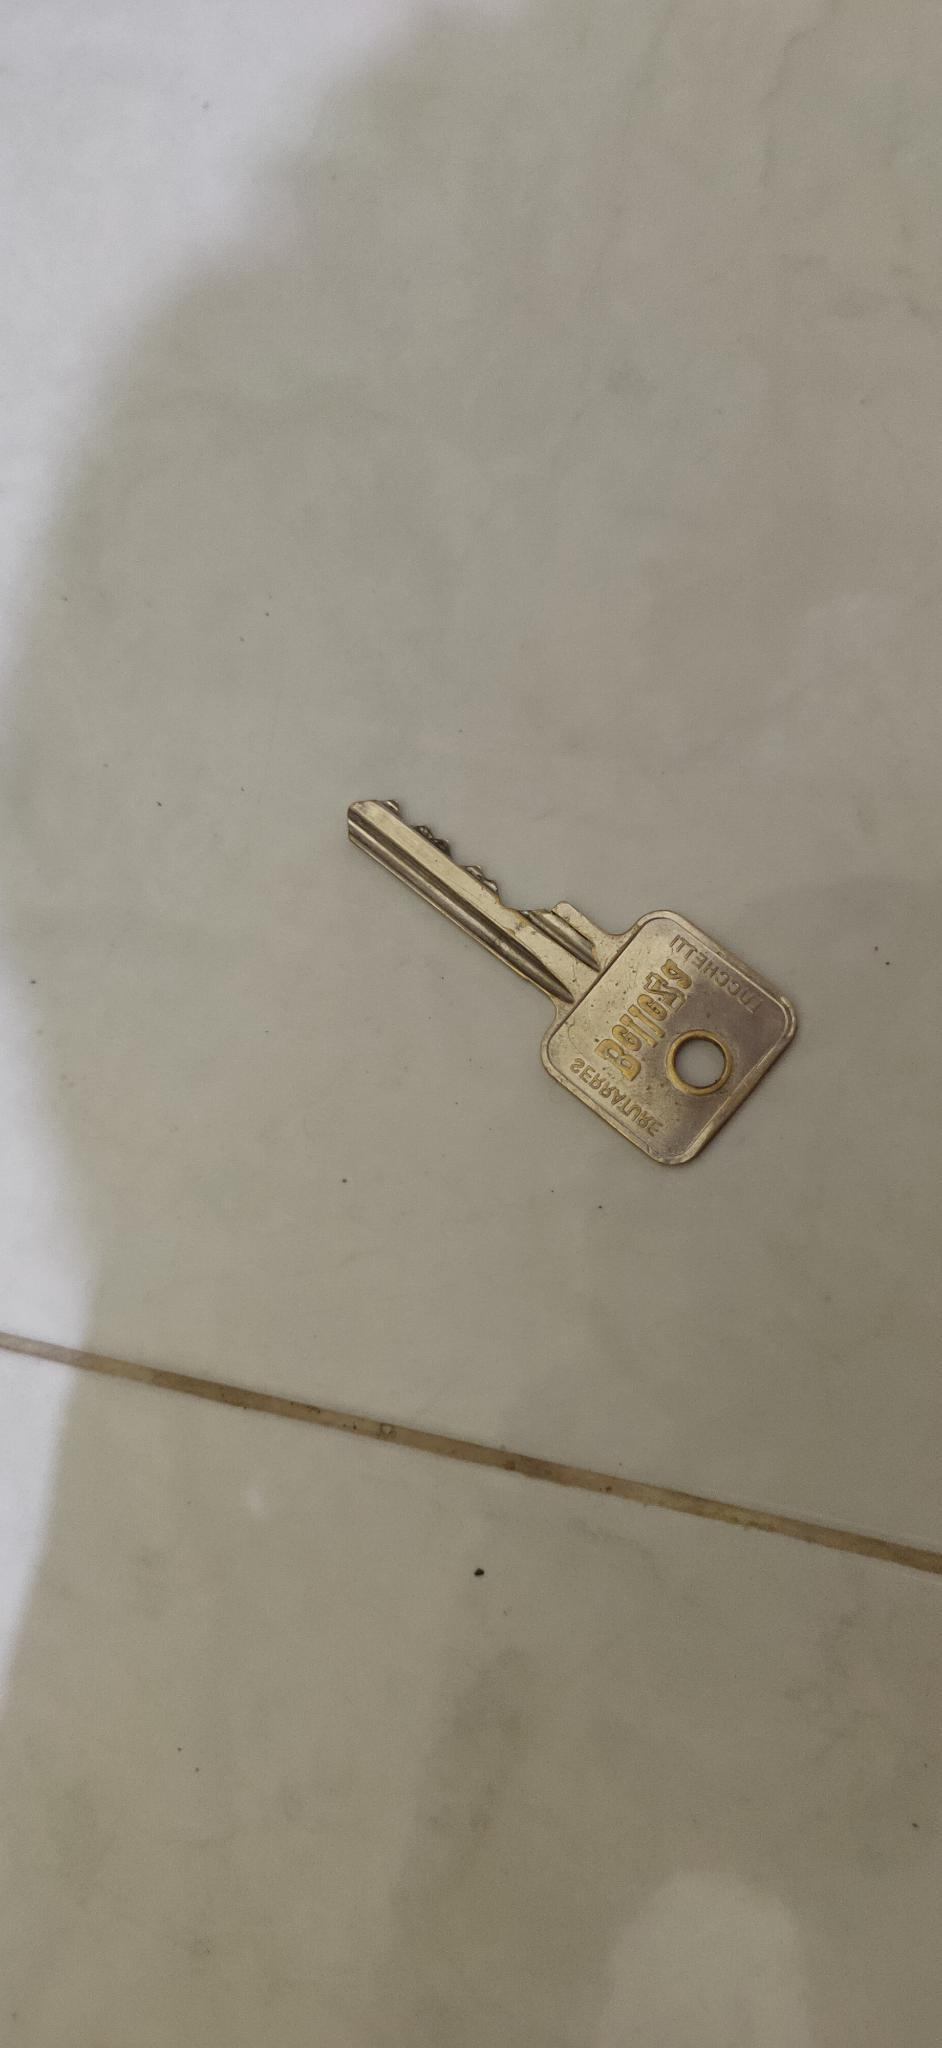keys: (327, 775, 817, 1192)
